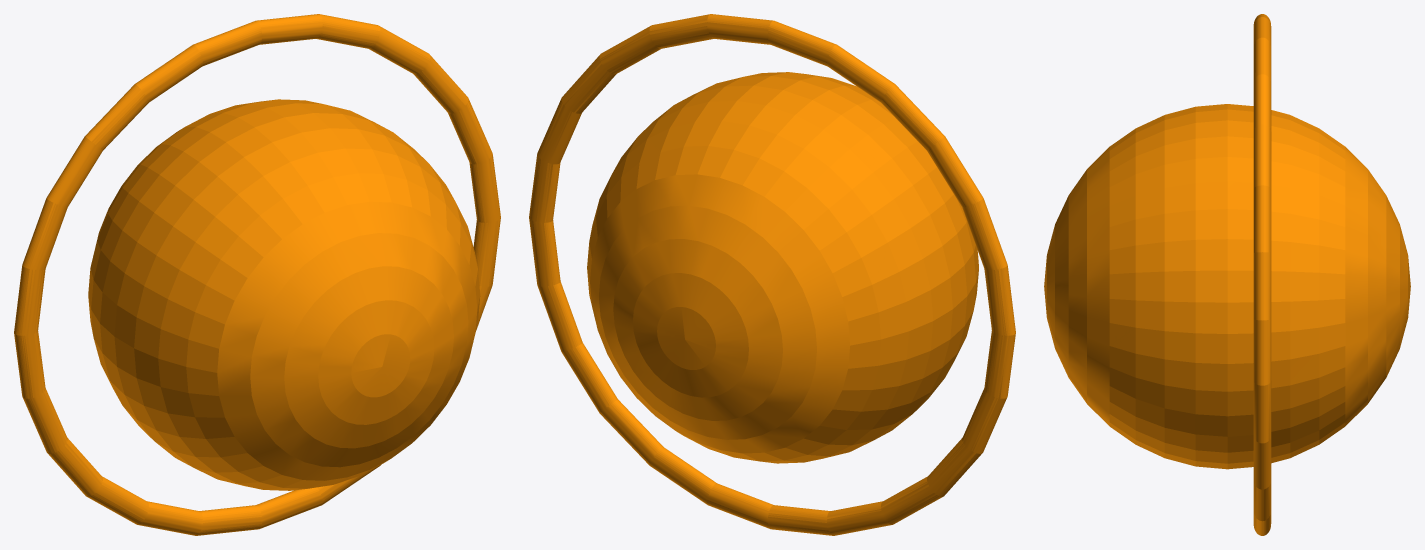
Rendered from saturno.gltf.
3 views of the same model, side by side, from view 1: azimuth 30°, elevation 25°; view 2: azimuth 150°, elevation 25°; view 3: azimuth 270°, elevation 25° (orthographic). The views are drawn at different scales.
Visible parts, largest first — view 1: group_0_undefined; view 2: group_0_undefined; view 3: group_0_undefined.
Boxes of the visible parts, x1,y1,x2,y2 form: group_0_undefined: (14,14,500,535); group_0_undefined: (529,14,1015,535); group_0_undefined: (1044,14,1410,535).
Size of the model in its own units: 0.3 by 0.3 by 0.21.
